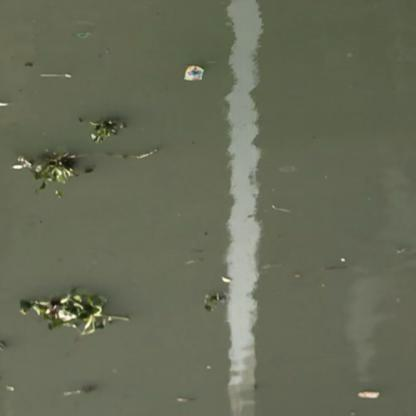Plastic: (185, 66, 203, 84), (358, 388, 379, 403)
